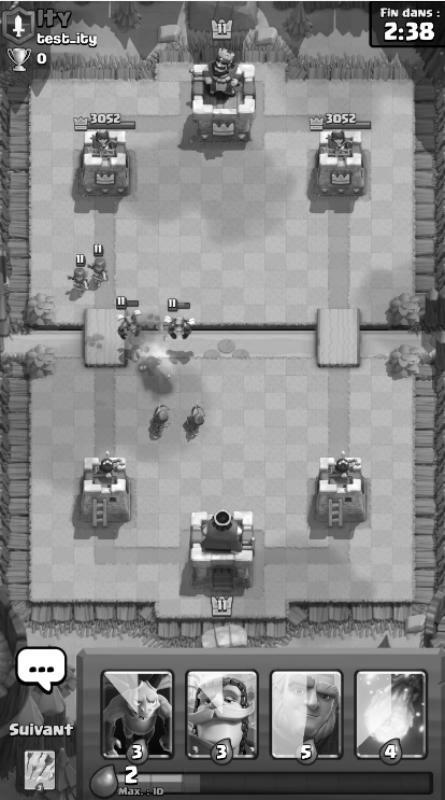archere: (87, 244, 111, 287), (67, 253, 91, 296), (147, 403, 172, 438), (183, 403, 206, 438)
gargouille: (164, 298, 196, 341), (115, 295, 142, 339)
